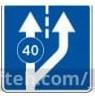road_sign: (0, 1, 94, 94)
